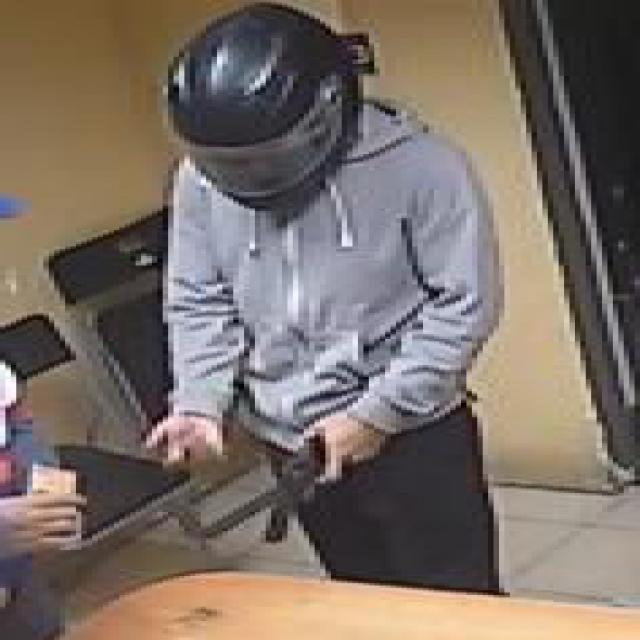weapon: (261, 431, 331, 545)
